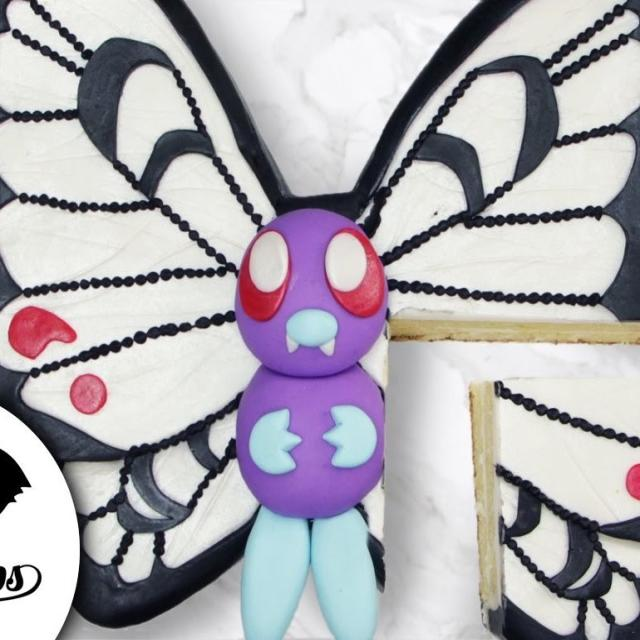Butterfree: (108, 50, 558, 554)
